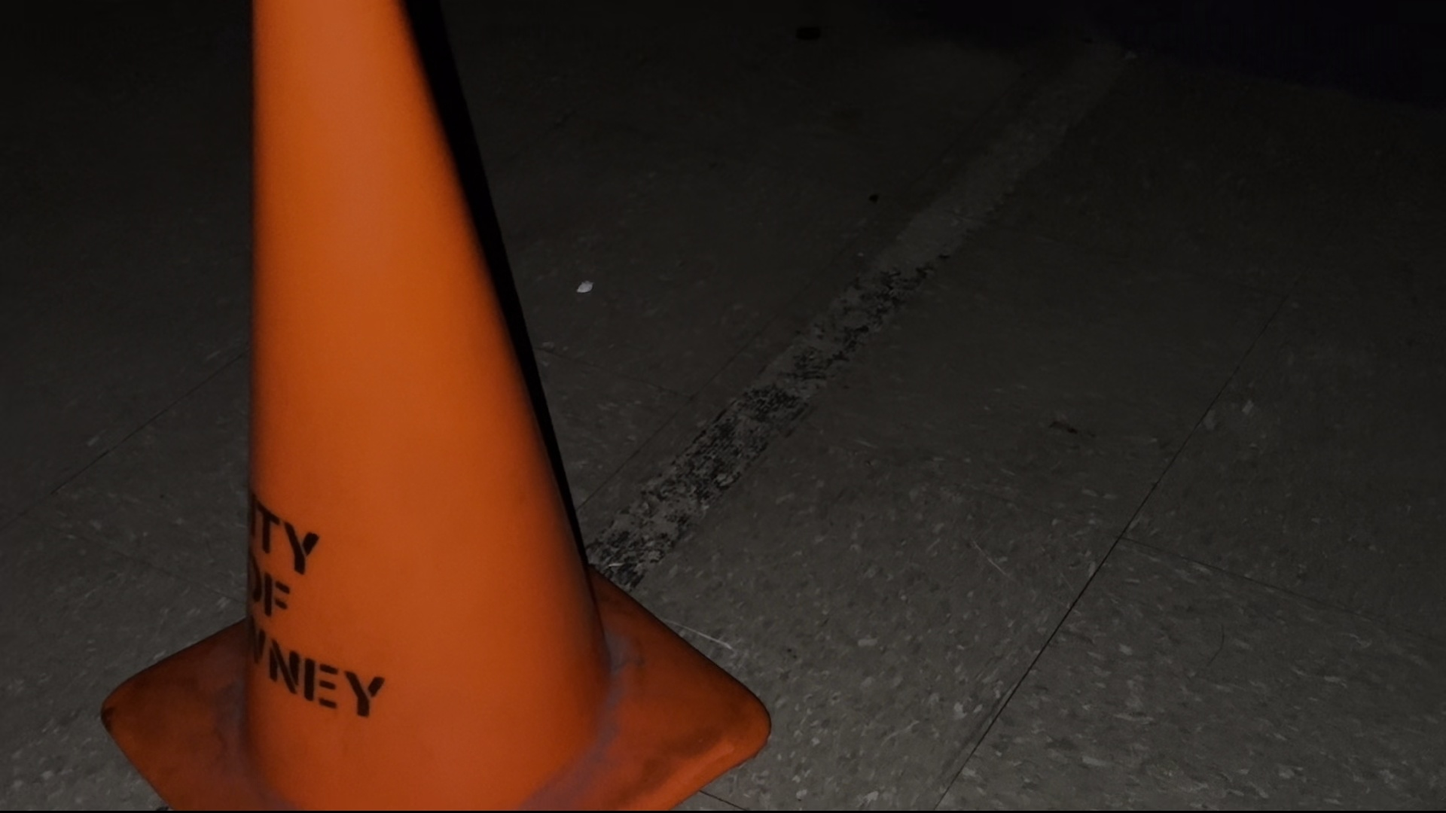traffic_cone: (100, 1, 773, 811)
